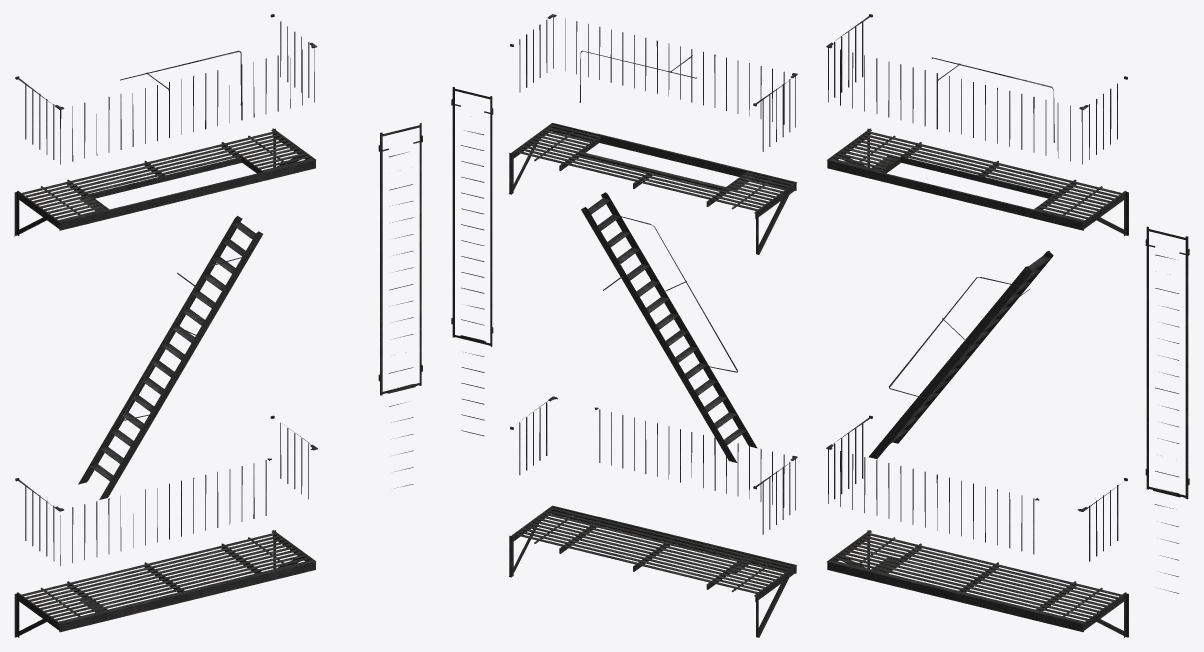
Rendered from modular_fire_escape.gltf.
3 renders of one model, left to right at view 1: azimuth 30°, elevation 25°; view 2: azimuth 150°, elevation 25°; view 3: azimuth 330°, elevation 25°, orthographic. The views are drawn at different scales.
Visible parts, largest first — view 1: modular_fire_escape_platform_bottom, modular_fire_escape_platform_middle, modular_fire_escape_stairs, modular_fire_escape_railing_middle, modular_fire_escape_railing_bottom, modular_fire_escape_ladder_bottom; view 2: modular_fire_escape_platform_bottom, modular_fire_escape_platform_middle, modular_fire_escape_stairs, modular_fire_escape_railing_middle, modular_fire_escape_railing_bottom, modular_fire_escape_ladder_bottom; view 3: modular_fire_escape_platform_bottom, modular_fire_escape_platform_middle, modular_fire_escape_stairs, modular_fire_escape_railing_middle, modular_fire_escape_railing_bottom, modular_fire_escape_ladder_bottom.
Part boxes in pixels (<box>): modular_fire_escape_platform_bottom: <box>14,530,316,637</box>; modular_fire_escape_platform_middle: <box>14,128,315,236</box>; modular_fire_escape_stairs: <box>78,216,263,499</box>; modular_fire_escape_railing_middle: <box>15,14,317,164</box>; modular_fire_escape_railing_bottom: <box>15,415,317,565</box>; modular_fire_escape_ladder_bottom: <box>378,122,422,488</box>; modular_fire_escape_platform_bottom: <box>509,505,796,637</box>; modular_fire_escape_platform_middle: <box>509,123,796,254</box>; modular_fire_escape_stairs: <box>581,192,757,462</box>; modular_fire_escape_railing_middle: <box>510,14,797,151</box>; modular_fire_escape_railing_bottom: <box>510,396,797,534</box>; modular_fire_escape_ladder_bottom: <box>451,87,493,436</box>; modular_fire_escape_platform_bottom: <box>827,530,1128,637</box>; modular_fire_escape_platform_middle: <box>827,128,1128,236</box>; modular_fire_escape_stairs: <box>868,251,1053,458</box>; modular_fire_escape_railing_middle: <box>826,14,1127,164</box>; modular_fire_escape_railing_bottom: <box>826,415,1127,561</box>; modular_fire_escape_ladder_bottom: <box>1145,226,1189,593</box>.
Bounding box in the file's own units: 6.66 × 9.76 × 1.42.
2 materials, 2 textured.
